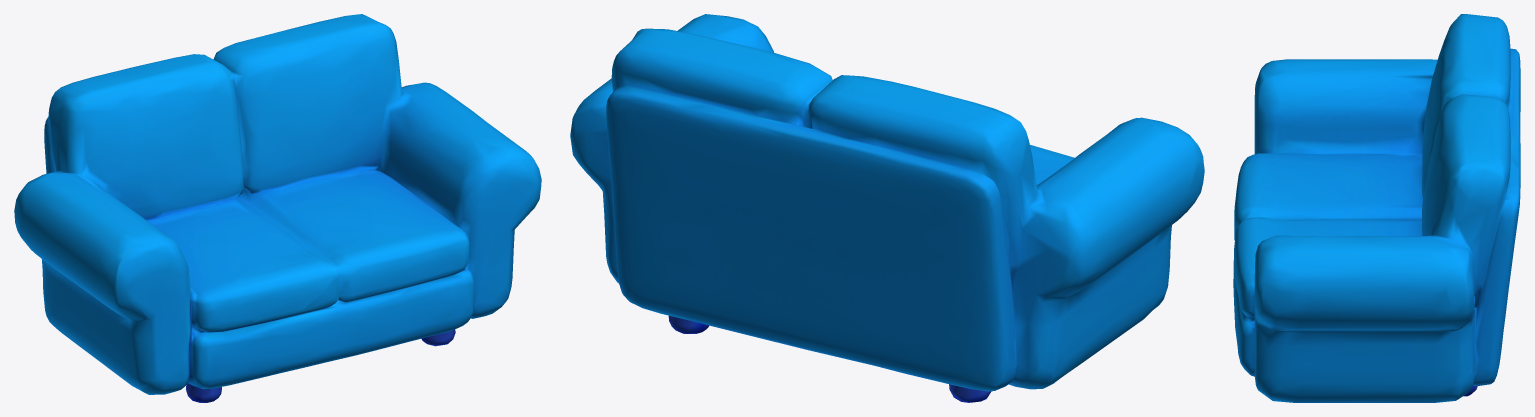
The model's file is sofa.glb.
3 renders of one model, left to right at view 1: azimuth 30°, elevation 25°; view 2: azimuth 150°, elevation 25°; view 3: azimuth 270°, elevation 25°, orthographic. The views are drawn at different scales.
Visible parts, largest first — view 1: tripo_node_4e4d4ca9-8a7a-4e04-9031-db10f70f7252; view 2: tripo_node_4e4d4ca9-8a7a-4e04-9031-db10f70f7252; view 3: tripo_node_4e4d4ca9-8a7a-4e04-9031-db10f70f7252.
Boxes of the visible parts, left/top/right/bottom form: tripo_node_4e4d4ca9-8a7a-4e04-9031-db10f70f7252: left=14, top=14, right=541, bottom=402; tripo_node_4e4d4ca9-8a7a-4e04-9031-db10f70f7252: left=570, top=14, right=1204, bottom=402; tripo_node_4e4d4ca9-8a7a-4e04-9031-db10f70f7252: left=1233, top=14, right=1520, bottom=402.
Bounding box in the file's own units: 0.9799 × 0.5315 × 0.5563.
1 material, 1 textured.
